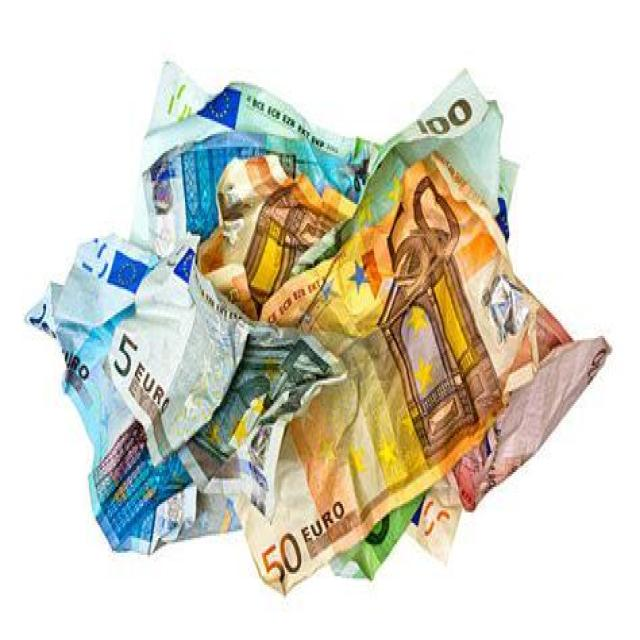banknote: (207, 153, 554, 616), (214, 148, 534, 599), (137, 78, 518, 274), (24, 233, 239, 552), (104, 250, 347, 524), (286, 70, 504, 282), (451, 278, 619, 523), (382, 168, 464, 299), (346, 487, 433, 584), (139, 62, 217, 142), (412, 88, 478, 142), (257, 526, 305, 592), (416, 499, 456, 557), (106, 326, 143, 381)
